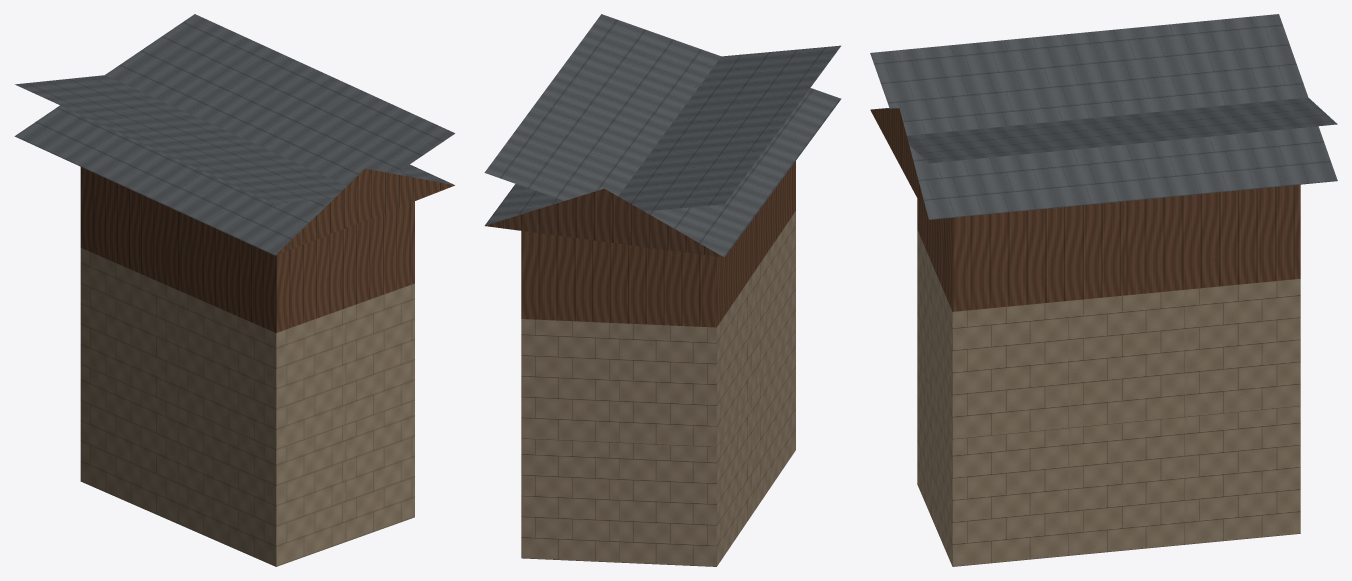
File: bld_c27_-54_552.gltf
The picture shows the model from 3 angles, left to right: view 1: azimuth 30°, elevation 25°; view 2: azimuth 150°, elevation 25°; view 3: azimuth 270°, elevation 25°; orthographic projection. The views are drawn at different scales.
Parts seen in each view (by area): view 1: bld_c27_-54_552; view 2: bld_c27_-54_552; view 3: bld_c27_-54_552.
Part boxes in pixels (x1,y1,x2,y2): bld_c27_-54_552: (14,14,454,566); bld_c27_-54_552: (484,14,841,566); bld_c27_-54_552: (870,14,1337,566).
Bounding box in the file's own units: 5.65 × 7.4 × 7.48.
Materials: 4 (4 with a texture image).
